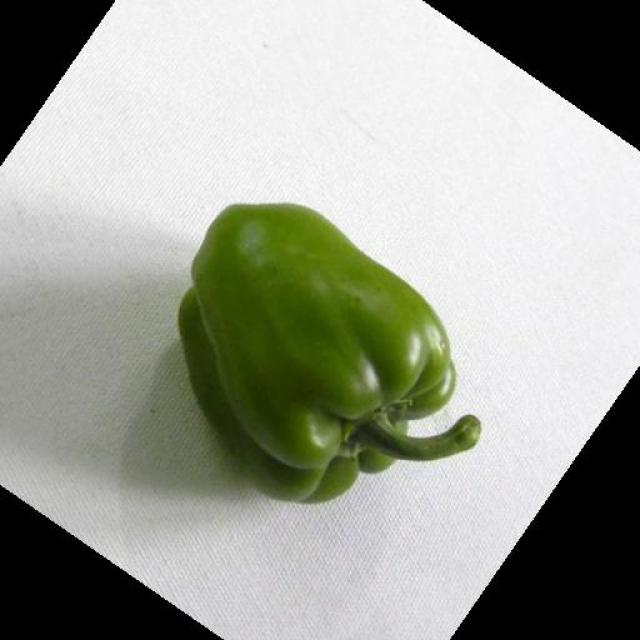Fresh_Capsicum: (168, 188, 528, 519)
